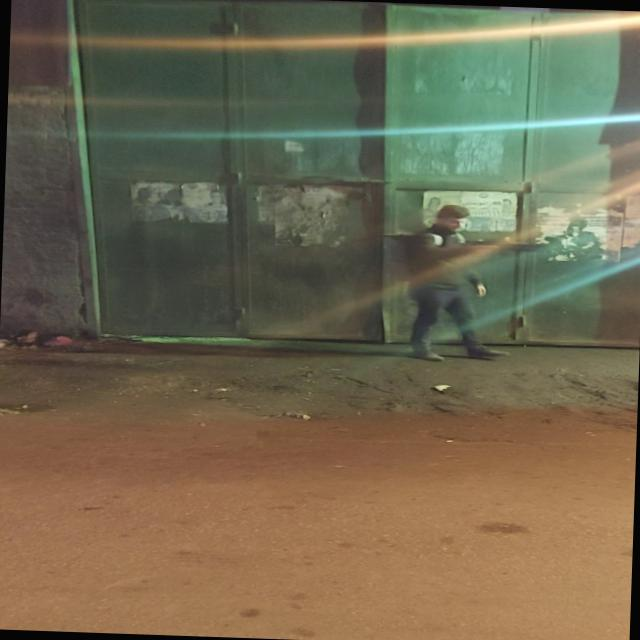long weapon: (454, 234, 550, 266)
